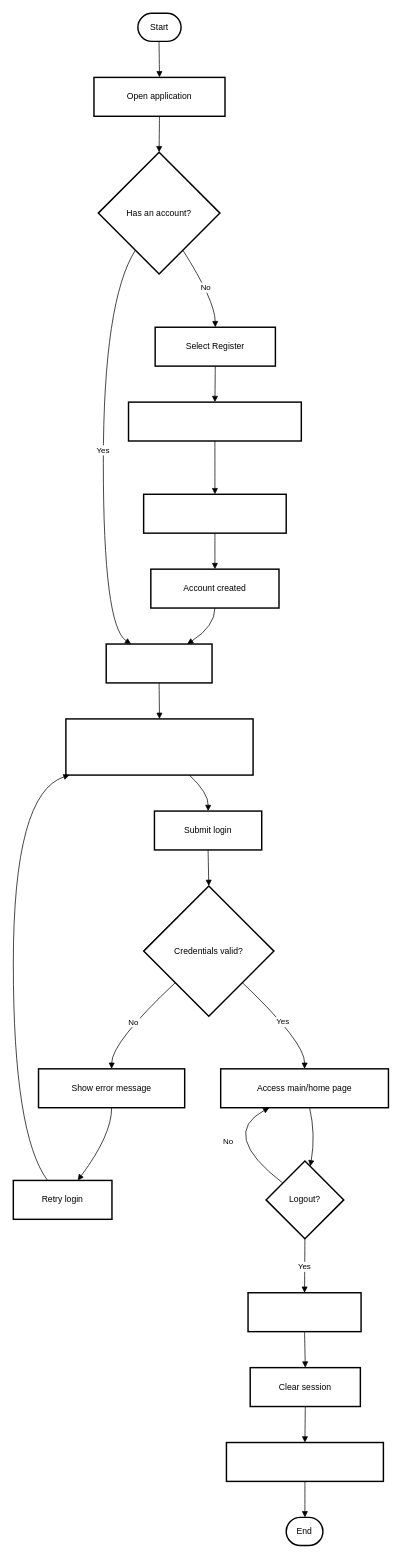
Some shapes in this 401 by 1558 pixel diagram are drawn without their labels. Each missing label, with the centre of its shape:
"Enter registration details" goes at [214,421].
"Enter username/email & password" goes at [159,746].
"Return to login screen" goes at [304,1461].
"Select Login" goes at [158,663].
"Select Logout" goes at [304,1312].
"Submit registration" goes at [215,513].
